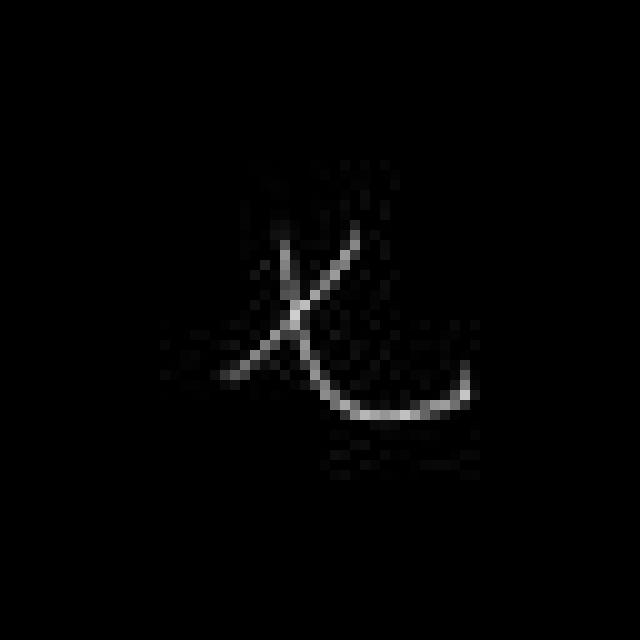7 -seven-: (212, 225, 490, 428)
